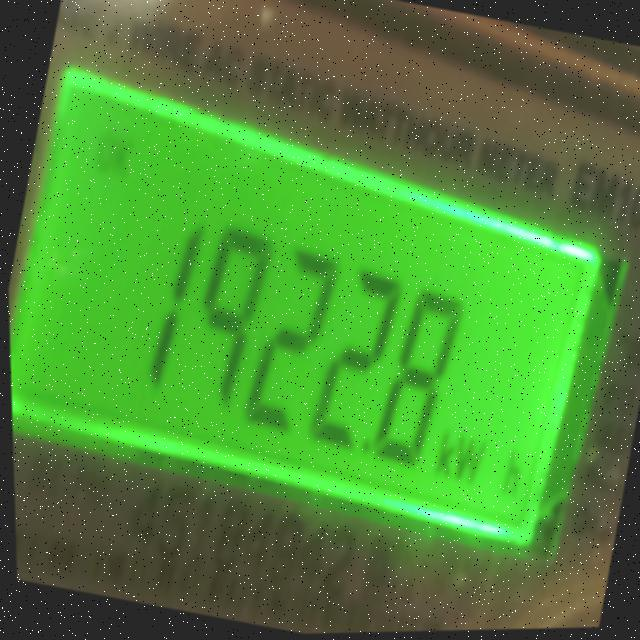.: (355, 431, 372, 458)
1: (136, 216, 205, 391)
2: (237, 245, 341, 434), (306, 267, 404, 454)
8: (368, 292, 463, 467)
9: (182, 228, 276, 415)
